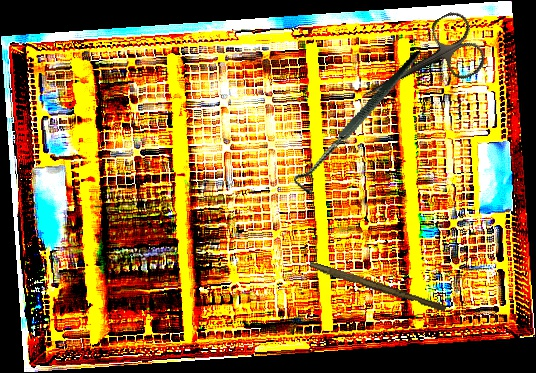Hook Surgical: (267, 50, 454, 198)
Iris Scissors: (347, 7, 491, 124)
Scalpel Handle: (307, 261, 448, 313)
